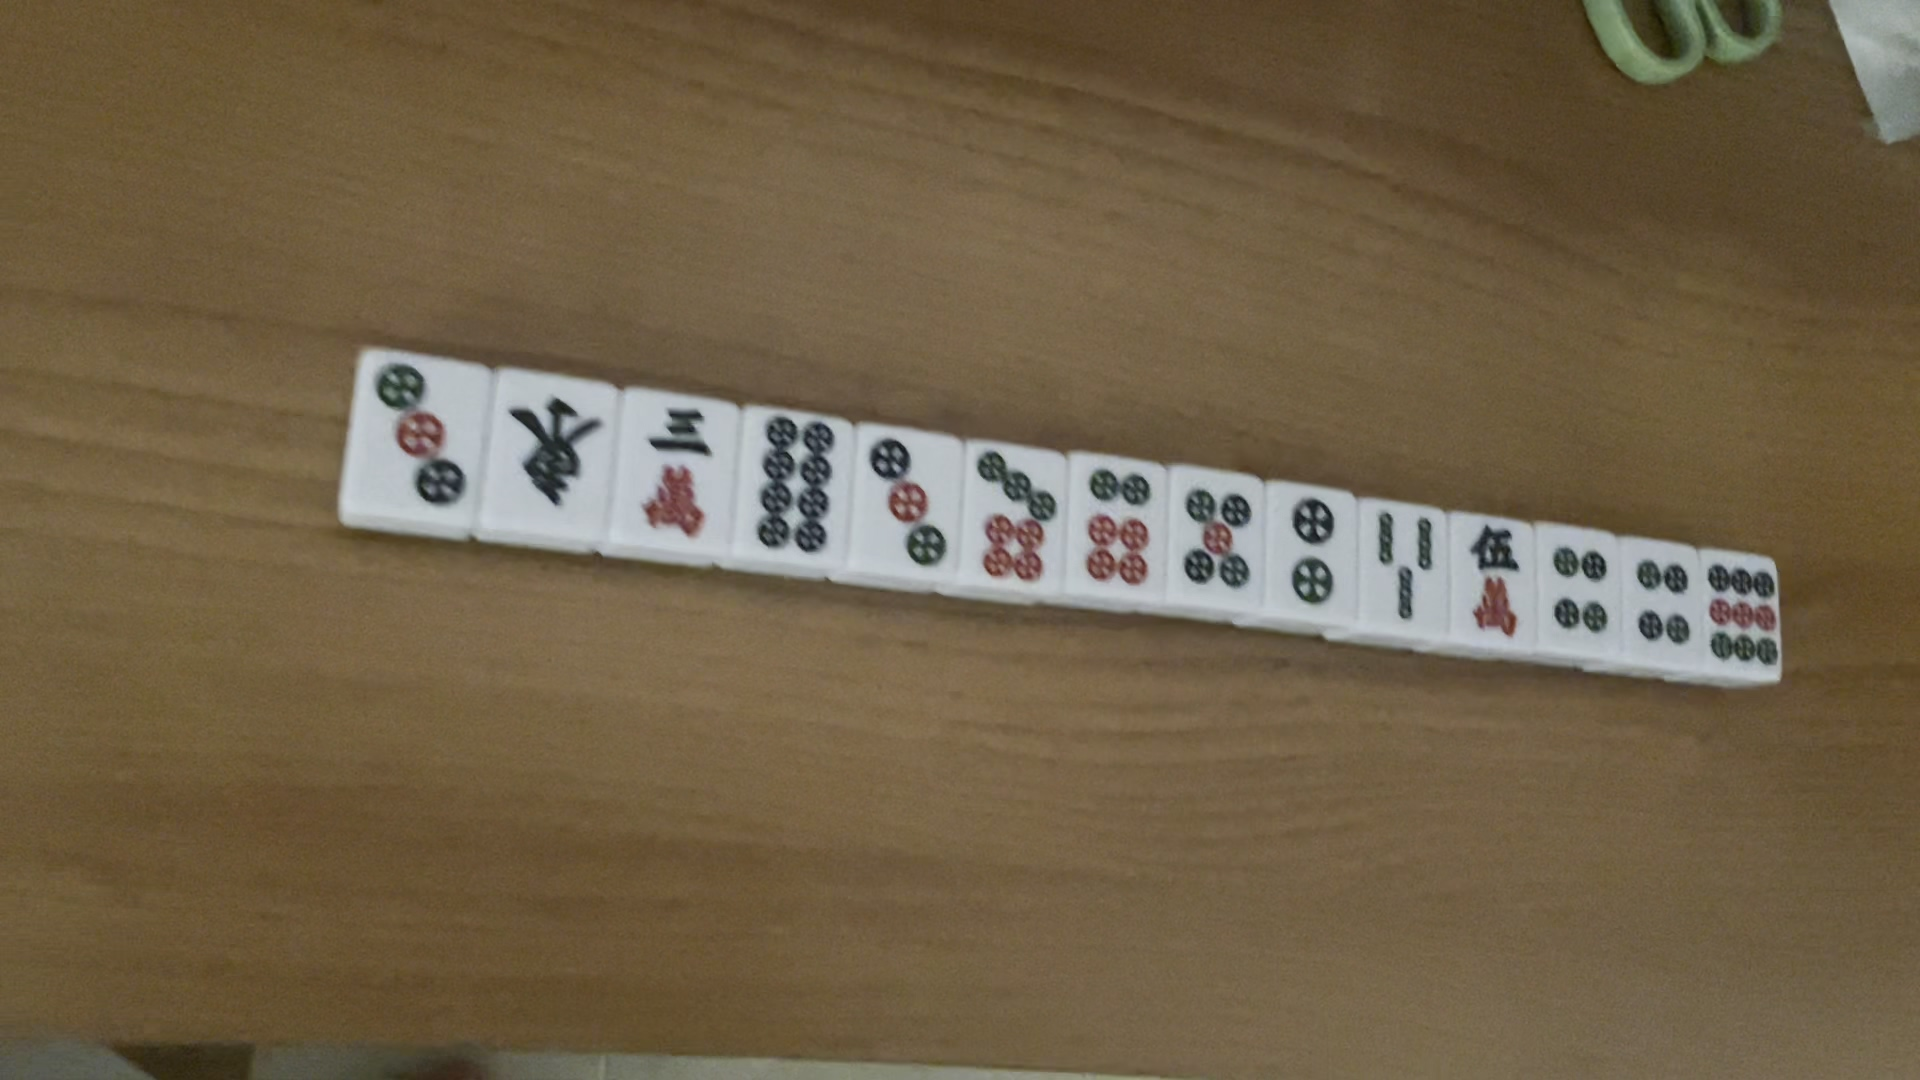b-3: (1364, 504, 1443, 628)
c-3: (640, 401, 716, 541)
c-5: (1458, 518, 1528, 640)
d-2: (1270, 495, 1352, 611)
d-3: (361, 357, 465, 512), (857, 435, 955, 580)
d-4: (1631, 551, 1700, 659), (1545, 543, 1613, 641)
d-5: (1178, 483, 1261, 593)
d-6: (1077, 460, 1160, 591)
d-7: (965, 446, 1062, 585)
d-8: (749, 411, 845, 560)
d-9: (1702, 553, 1778, 675)
honors-east: (502, 388, 607, 512)
